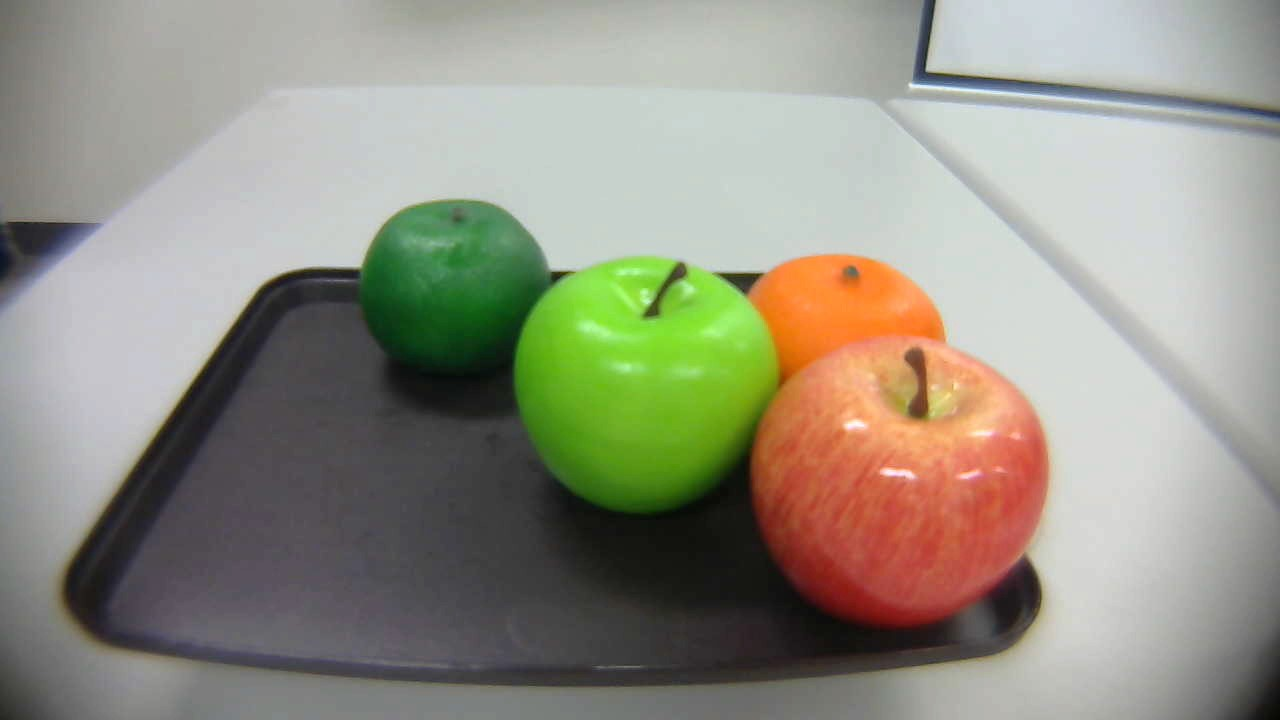green apple: (507, 248, 782, 530)
green orange: (351, 196, 558, 379)
orange: (746, 256, 949, 397)
red apple: (739, 335, 1055, 634)
